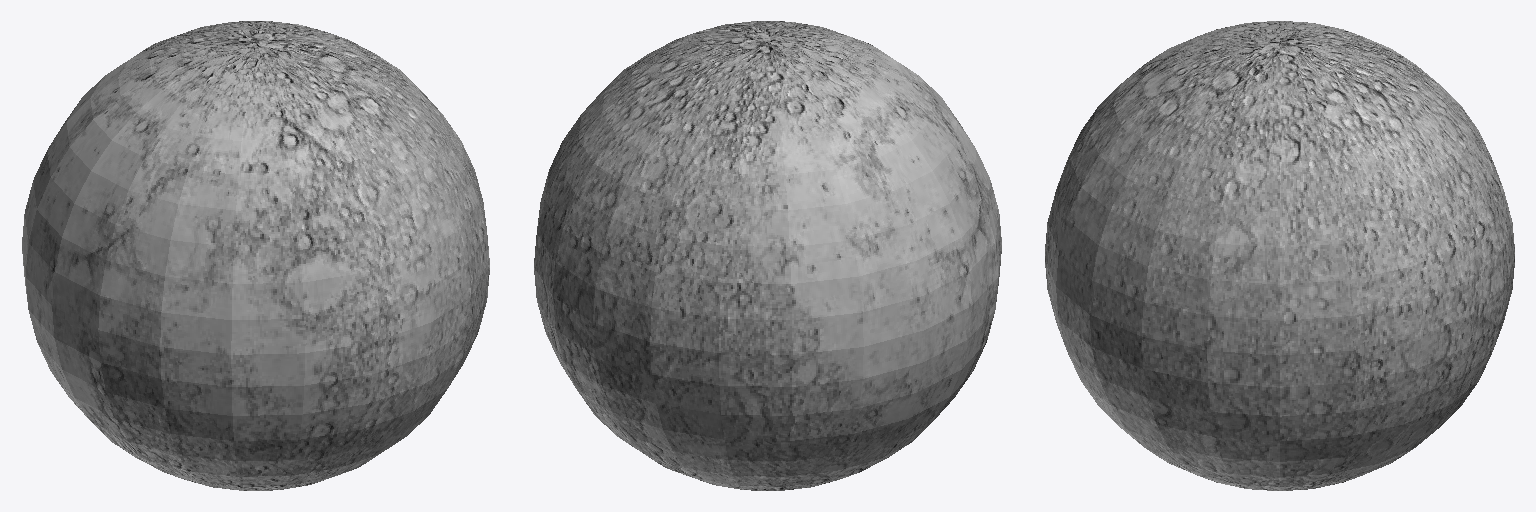
The picture shows the model from 3 angles: view 1: azimuth 30°, elevation 25°; view 2: azimuth 150°, elevation 25°; view 3: azimuth 270°, elevation 25°; orthographic projection.
Parts seen in each view (by area): view 1: pSphere1; view 2: pSphere1; view 3: pSphere1.
Boxes of the visible parts, box(x1,y1,x2,y2) form: pSphere1: box(22, 21, 489, 490); pSphere1: box(534, 21, 1001, 490); pSphere1: box(1045, 21, 1514, 490).
Size of the model in its own units: 9.69 by 9.69 by 9.69.
Materials: 1 (1 with a texture image).